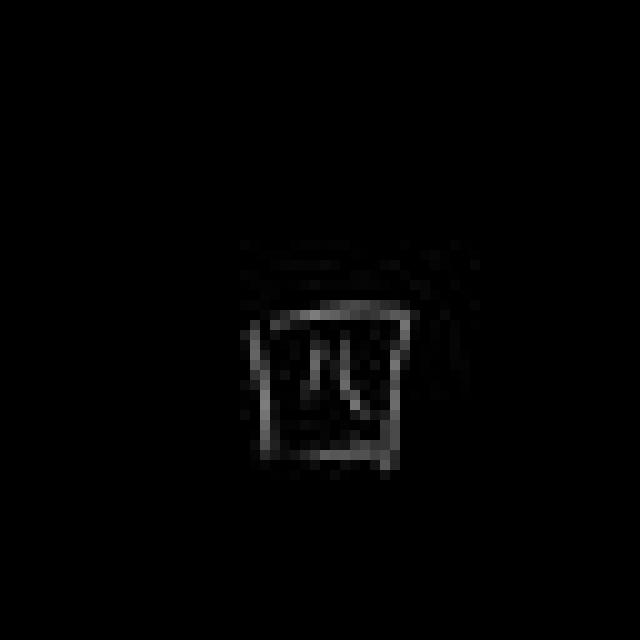4 -four-: (233, 292, 423, 480)
